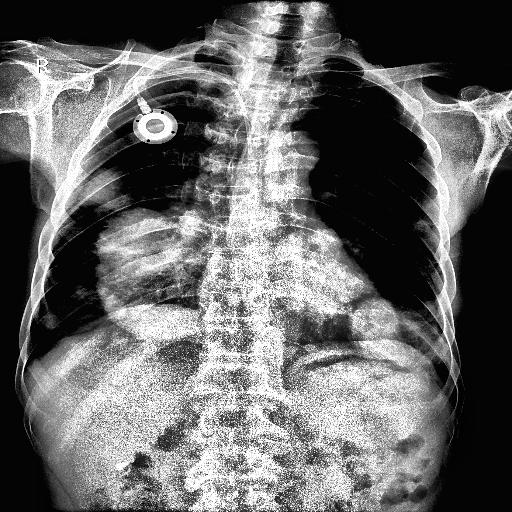0- Aortic enlargement: (270, 128, 322, 169)
7- Lung Opacity: (94, 208, 216, 343), (98, 256, 217, 344), (266, 230, 370, 314), (348, 292, 450, 370), (348, 301, 442, 373), (78, 172, 130, 202), (64, 280, 90, 299)
8- Nodule-Mass: (94, 208, 216, 343), (96, 207, 208, 341), (270, 226, 382, 322), (98, 256, 217, 344), (266, 230, 370, 314), (348, 292, 450, 370), (348, 301, 442, 373), (284, 239, 372, 315), (99, 210, 179, 274), (360, 318, 454, 366), (348, 296, 406, 354), (350, 302, 399, 358), (78, 168, 136, 210), (84, 166, 131, 210), (78, 172, 130, 202), (66, 286, 88, 297), (44, 314, 58, 330), (414, 220, 430, 234)
9- Other lesion: (66, 286, 88, 297), (44, 314, 58, 330)
